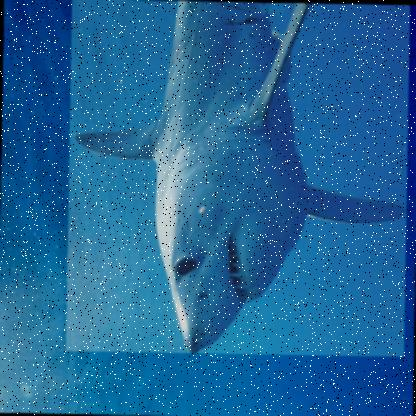mako-shark: (65, 0, 411, 357)
